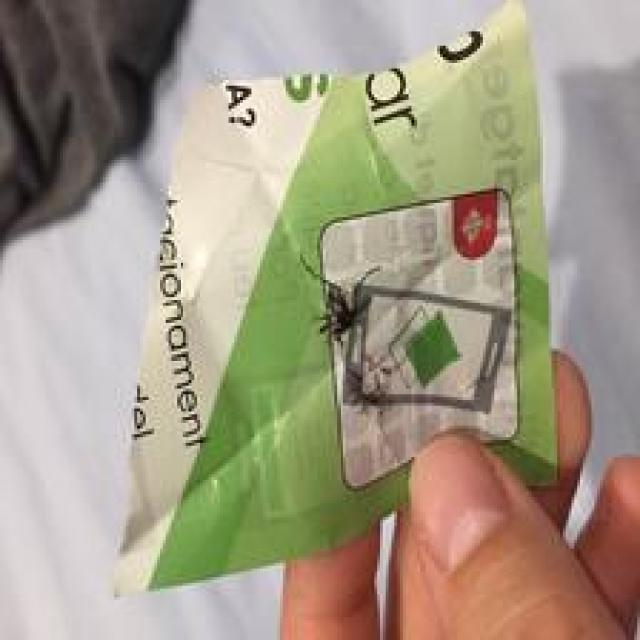Aedes albopictus: (116, 0, 561, 597)
